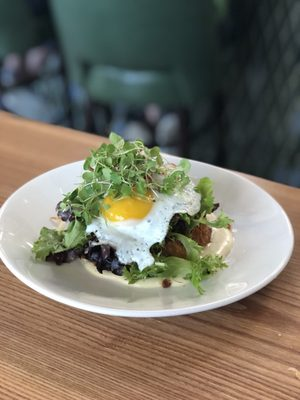curry: (1, 148, 299, 399)
